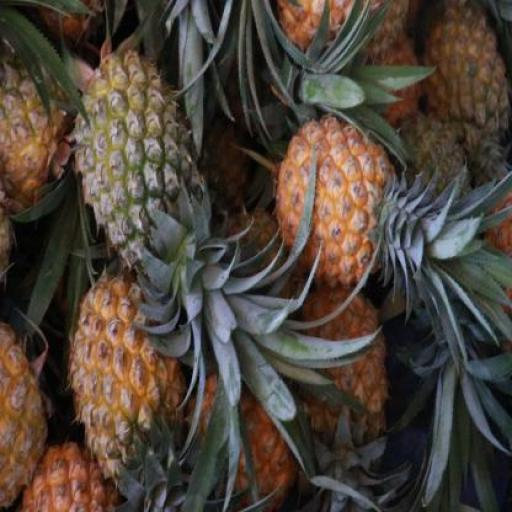------------------------------: (78, 34, 209, 256), (0, 17, 73, 201)
Pineapple - v8 v1: (68, 270, 186, 468), (275, 109, 395, 293), (1, 306, 49, 510)
